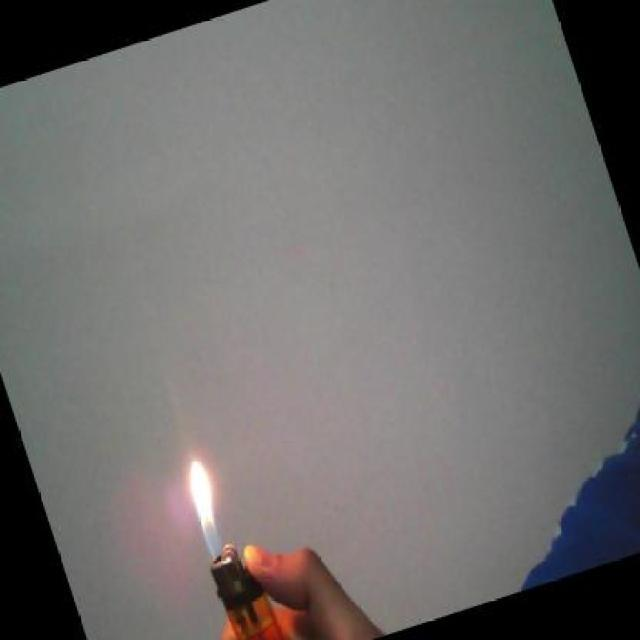Fire: (196, 438, 232, 550)
